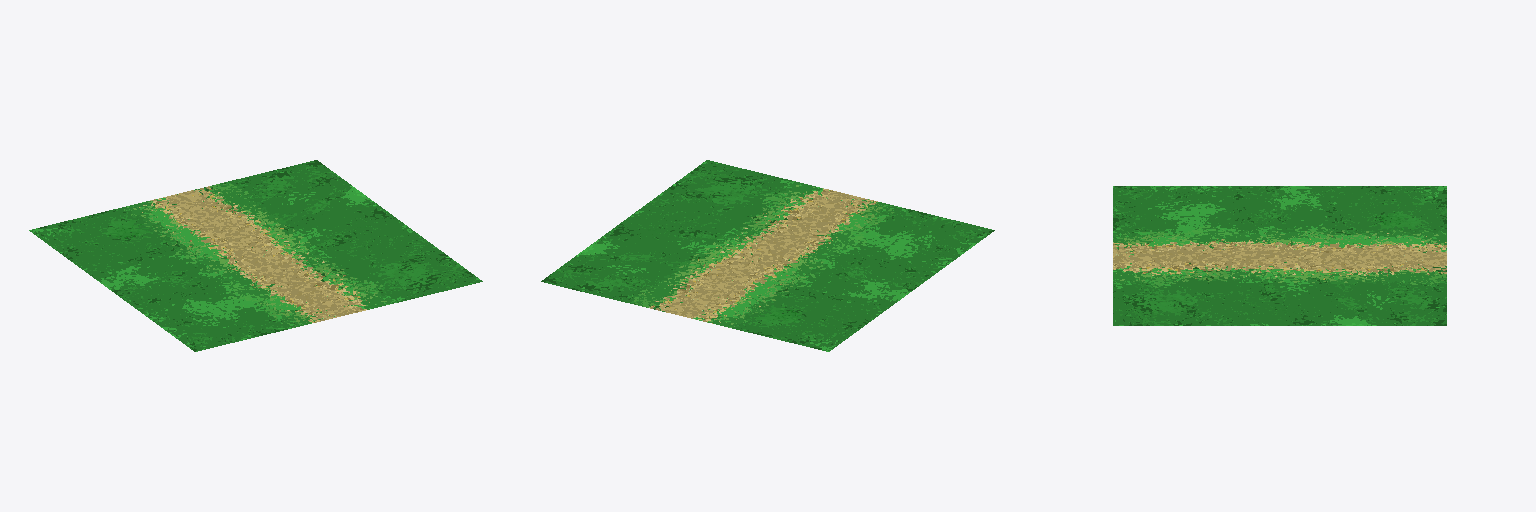
3 renders of one model, left to right at view 1: azimuth 30°, elevation 25°; view 2: azimuth 150°, elevation 25°; view 3: azimuth 270°, elevation 25°, orthographic.
Parts seen in each view (by area): view 1: 平面; view 2: 平面; view 3: 平面.
Boxes of the visible parts, x1=… form: 平面: x1=29, y1=160, x2=482, y2=351; 平面: x1=541, y1=160, x2=994, y2=351; 平面: x1=1113, y1=186, x2=1446, y2=325.
Size of the model in its own units: 1000 by 0 by 1000.
1 materials, 1 textured.